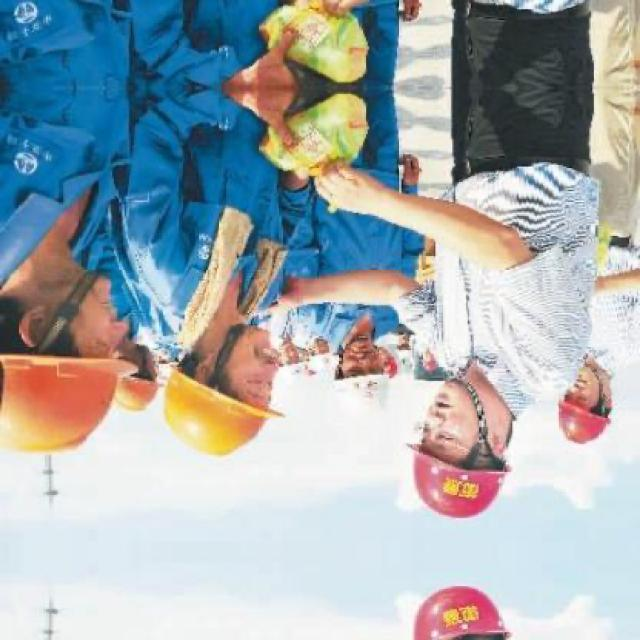con casco: (0, 240, 134, 454), (395, 371, 539, 514), (185, 305, 297, 464), (528, 360, 605, 460)
